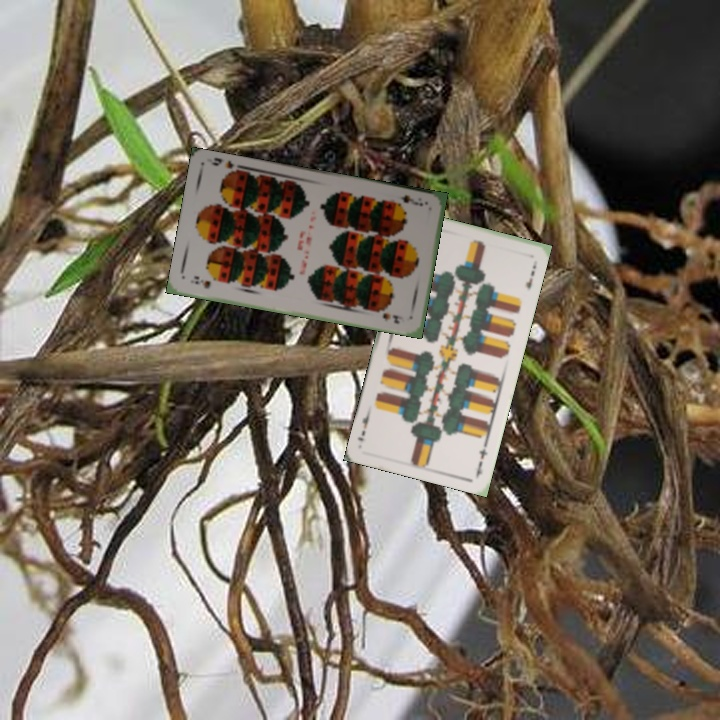E7: (472, 438, 490, 478)
S9: (397, 190, 425, 209), (189, 273, 213, 291)
